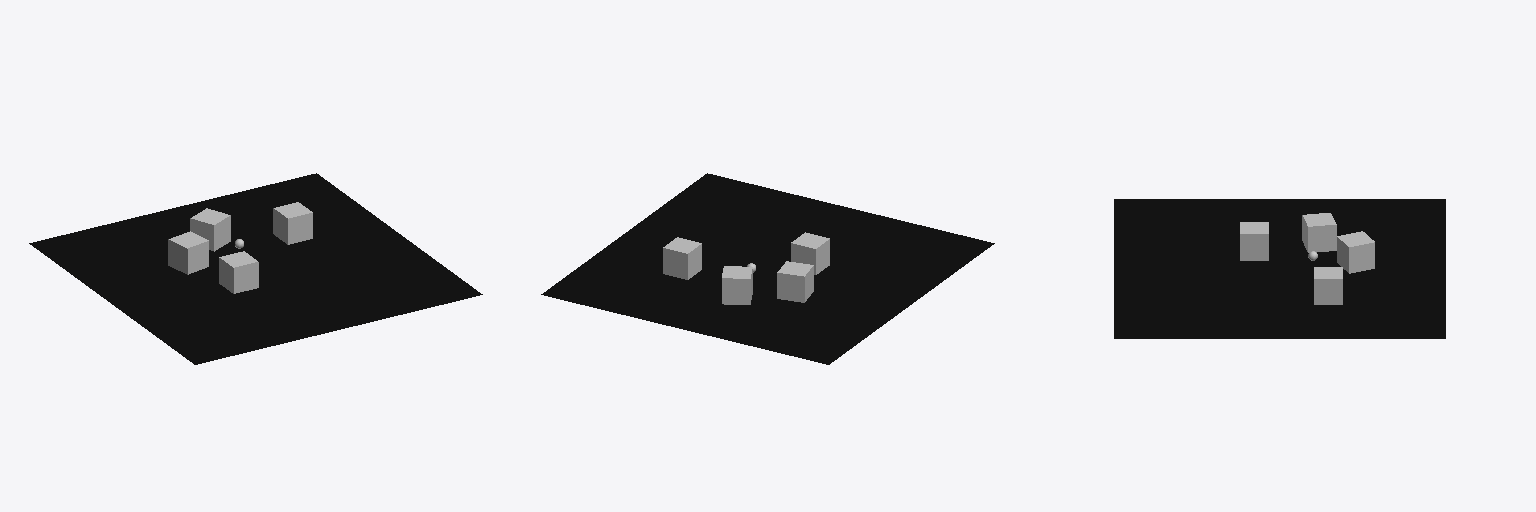
File: testobject5.obj
3 renders of one model, left to right at view 1: azimuth 30°, elevation 25°; view 2: azimuth 150°, elevation 25°; view 3: azimuth 270°, elevation 25°, orthographic.
Visible parts, largest first — view 1: Plane, Cube.003, Cube, Cube.001, Cube.002; view 2: Plane, Cube.001, Cube.003, Cube, Cube.002; view 3: Plane, Cube.002, Cube.003, Cube, Cube.001.
Part boxes in pixels (bbox=[...]): Plane: bbox=[29, 173, 482, 364]; Cube.003: bbox=[168, 231, 208, 274]; Cube: bbox=[219, 251, 258, 293]; Cube.001: bbox=[273, 202, 312, 244]; Cube.002: bbox=[190, 208, 230, 251]; Plane: bbox=[541, 173, 994, 364]; Cube.001: bbox=[663, 237, 701, 279]; Cube.003: bbox=[777, 261, 813, 302]; Cube: bbox=[791, 232, 829, 274]; Cube.002: bbox=[722, 266, 752, 304]; Plane: bbox=[1114, 199, 1445, 338]; Cube.002: bbox=[1337, 231, 1374, 273]; Cube.003: bbox=[1302, 213, 1336, 252]; Cube: bbox=[1240, 222, 1268, 260]; Cube.001: bbox=[1314, 267, 1342, 304].
Bounding box in the file's own units: 22.91 × 2 × 22.91.